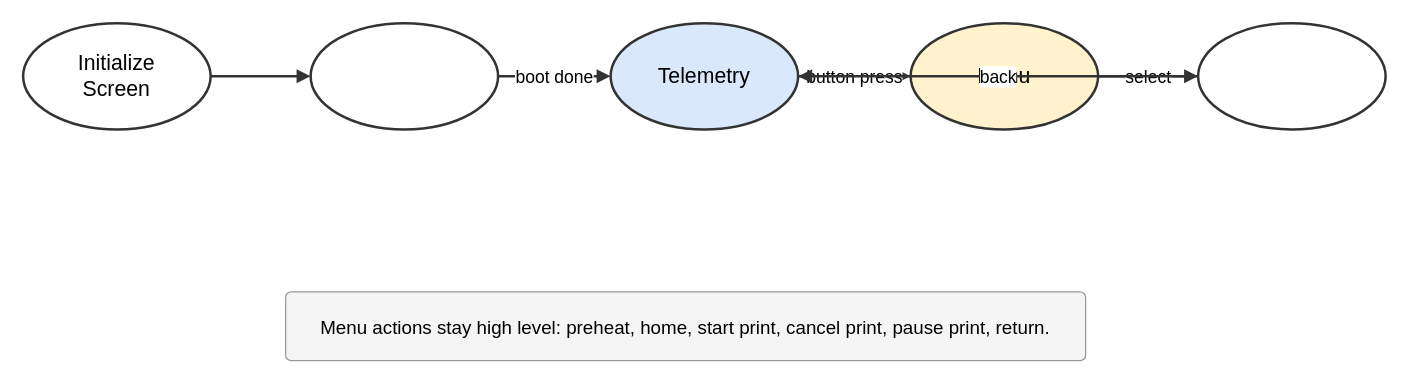
Some shapes in this 1408 by 383 pixel diagram are drawn without their labels. Here are the shapes that lost their labels. From the top down, the centre of each, then its label:
At point (404, 75): "Boot Screen".
At point (1291, 75): "Selected Action".
